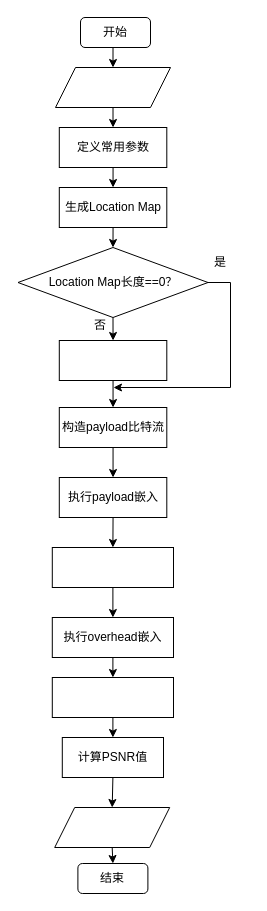
This 267x911 diagram has some shape labels left out. Each missing label, with the centre of its shape:
"保存嵌入后的图像" goes at (x=112, y=697).
"对Location Map执行算术编码" goes at (x=112, y=360).
"构造overhead比特流" goes at (x=112, y=567).
"读取图像数据" goes at (x=112, y=87).
"输出PSNR值" goes at (x=112, y=827).
